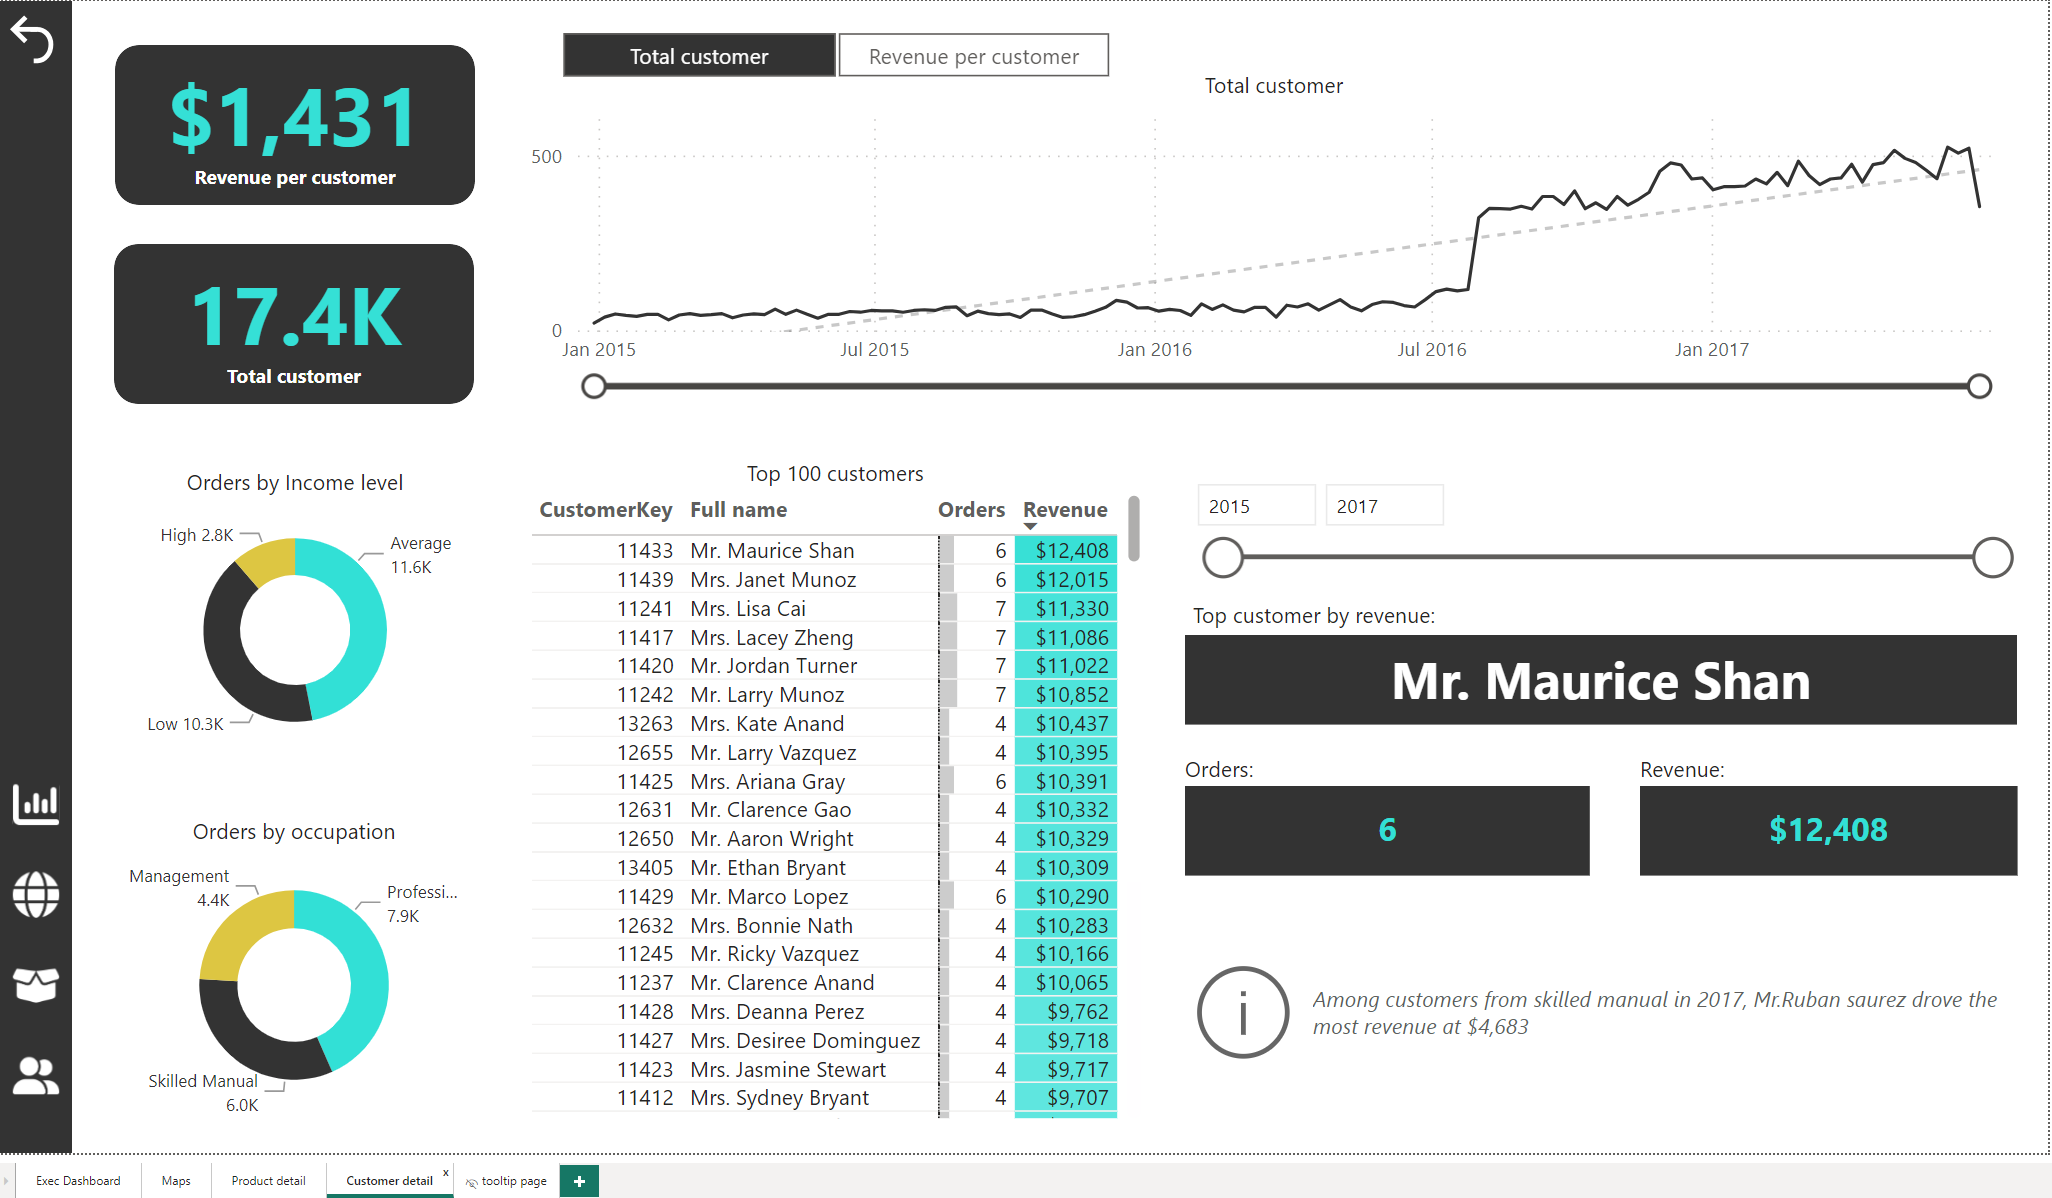

The page's visual inventory and layout, read from the dashboard file:
{"tool":"powerbi","page":{"name":"Customer detail","canvas":[1280,720],"ordinal":3},"visuals":[{"type":"shape","box":[0,0,45,720.6],"z":0},{"type":"actionButton","box":[0,483.7,45.2,37.1],"z":1000,"group":"g1"},{"type":"shape","box":[71.2,152,225,100],"z":1000},{"type":"shape","box":[71.9,27.6,225,100],"z":2000},{"type":"actionButton","box":[0,596.7,45.2,37.1],"z":2000,"group":"g1"},{"type":"actionButton","box":[0,540.2,45.2,37.1],"z":3000,"group":"g1"},{"type":"card","fields":{"Values":["Measure Table.Total customer"]},"box":[85.6,147.6,196.2,108.1],"z":3000},{"type":"card","fields":{"Values":["Measure Table.Revenue per customer"]},"box":[86.2,23.2,196.2,108.1],"z":4000},{"type":"actionButton","box":[0,653.2,45.2,37.1],"z":4000,"group":"g1"},{"type":"lineChart","fields":{"Y":["Measure Table.Total customer"],"Category":["AW_Calendar_lookup.Year","AW_Calendar_lookup.Start of Month","AW_Calendar_lookup.Start of Week","AW_Calendar_lookup.Date"]},"box":[326.2,43.8,940,208.1],"z":5000},{"type":"donutChart","title":"Orders by Income level","fields":{"Category":["AW_Customers_lookup.Income level"],"Y":["Measure Table.Total orders"]},"box":[71.8,292,225.2,185.6],"z":6000},{"type":"donutChart","title":"Orders by occupation","fields":{"Y":["Measure Table.Total orders"],"Category":["AW_Customers_lookup.Occupation"]},"box":[71.1,510.3,225.2,193],"z":7000},{"type":"tableEx","title":"Top 100 customers","fields":{"Values":["AW_Customers_lookup.CustomerKey","AW_Customers_lookup.Full name (cc)","Measure Table.Total orders","Measure Table.Total revenue"]},"box":[326,286.4,391.5,416.9],"z":8000},{"type":"card","fields":{"Values":["Measure Table.Full name(customer details)"]},"box":[740.4,396.2,520.2,56.3],"z":9000},{"type":"card","fields":{"Values":["Measure Table.Total orders(customer details)"]},"box":[740.4,490.8,253,56.3],"z":10000},{"type":"card","fields":{"Values":["Measure Table.Total revenue(customer details)"]},"box":[1024.9,490.8,235.7,56.3],"z":11000},{"type":"textbox","box":[740.4,370.2,253,30.3],"z":12000},{"type":"textbox","box":[735.5,466.1,72.4,30.3],"z":13000},{"type":"textbox","box":[1020,466.1,73.6,30.3],"z":14000},{"type":"slicer","fields":{"Values":["AW_Calendar_lookup.Year"]},"box":[735.5,292,530.7,78.6],"z":15000},{"type":"actionButton","box":[0,3.7,45.2,40.2],"z":16000},{"type":"actionButton","box":[740.4,595.7,525.8,73],"z":17000},{"type":"group","id":"g1","title":"page navigation","box":[0,483.7,45.2,206.6],"z":18000},{"type":"slicer","fields":{"Values":["customer metric selection.customer metric selection"]},"box":[326.2,13.1,391.2,40],"z":18501}]}

Visuals, with their boxes on the page's 1280x720 design canvas (x1, y1, x2, y2). These are canvas units, not pixel positions in the 2052x1198 screenshot, which may show the page scaled, cropped or inside an application window:
shape: (x1=0, y1=0, x2=45, y2=721)
actionButton: (x1=0, y1=484, x2=45, y2=521)
shape: (x1=71, y1=152, x2=296, y2=252)
shape: (x1=72, y1=28, x2=297, y2=128)
actionButton: (x1=0, y1=597, x2=45, y2=634)
actionButton: (x1=0, y1=540, x2=45, y2=577)
card - Measure Table.Total customer: (x1=86, y1=148, x2=282, y2=256)
card - Measure Table.Revenue per customer: (x1=86, y1=23, x2=282, y2=131)
actionButton: (x1=0, y1=653, x2=45, y2=690)
lineChart - Measure Table.Total customer x AW_Calendar_lookup.Year: (x1=326, y1=44, x2=1266, y2=252)
"Orders by Income level" donutChart: (x1=72, y1=292, x2=297, y2=478)
"Orders by occupation" donutChart: (x1=71, y1=510, x2=296, y2=703)
"Top 100 customers" tableEx: (x1=326, y1=286, x2=718, y2=703)
card - Measure Table.Full name(customer details): (x1=740, y1=396, x2=1261, y2=452)
card - Measure Table.Total orders(customer details): (x1=740, y1=491, x2=993, y2=547)
card - Measure Table.Total revenue(customer details): (x1=1025, y1=491, x2=1261, y2=547)
textbox: (x1=740, y1=370, x2=993, y2=400)
textbox: (x1=736, y1=466, x2=808, y2=496)
textbox: (x1=1020, y1=466, x2=1094, y2=496)
slicer - AW_Calendar_lookup.Year: (x1=736, y1=292, x2=1266, y2=371)
actionButton: (x1=0, y1=4, x2=45, y2=44)
actionButton: (x1=740, y1=596, x2=1266, y2=669)
"page navigation" group: (x1=0, y1=484, x2=45, y2=690)
slicer - customer metric selection.customer metric selection: (x1=326, y1=13, x2=717, y2=53)
